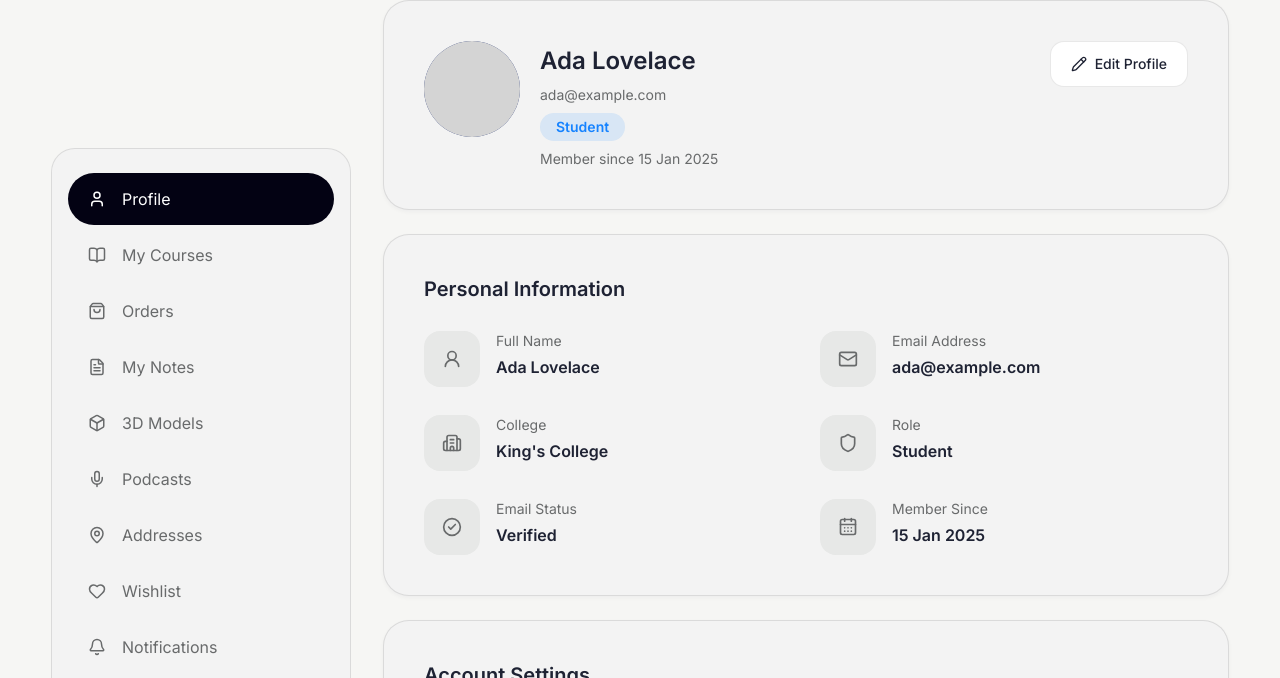
Test case: navigation › switches to the My Courses section instead of only highlighting it
Click the button "My Courses" at (201, 255), box [68,229,334,281]
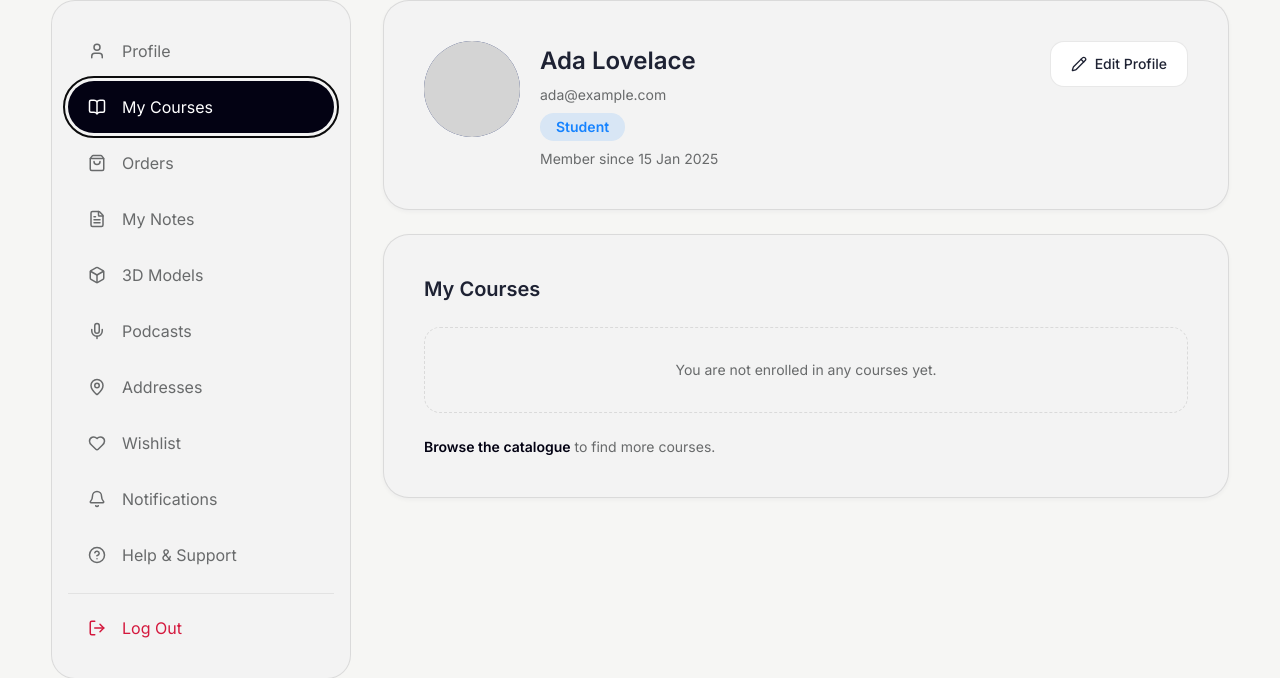
Expected: the heading "My Courses" is shown, [424,277,540,301]
